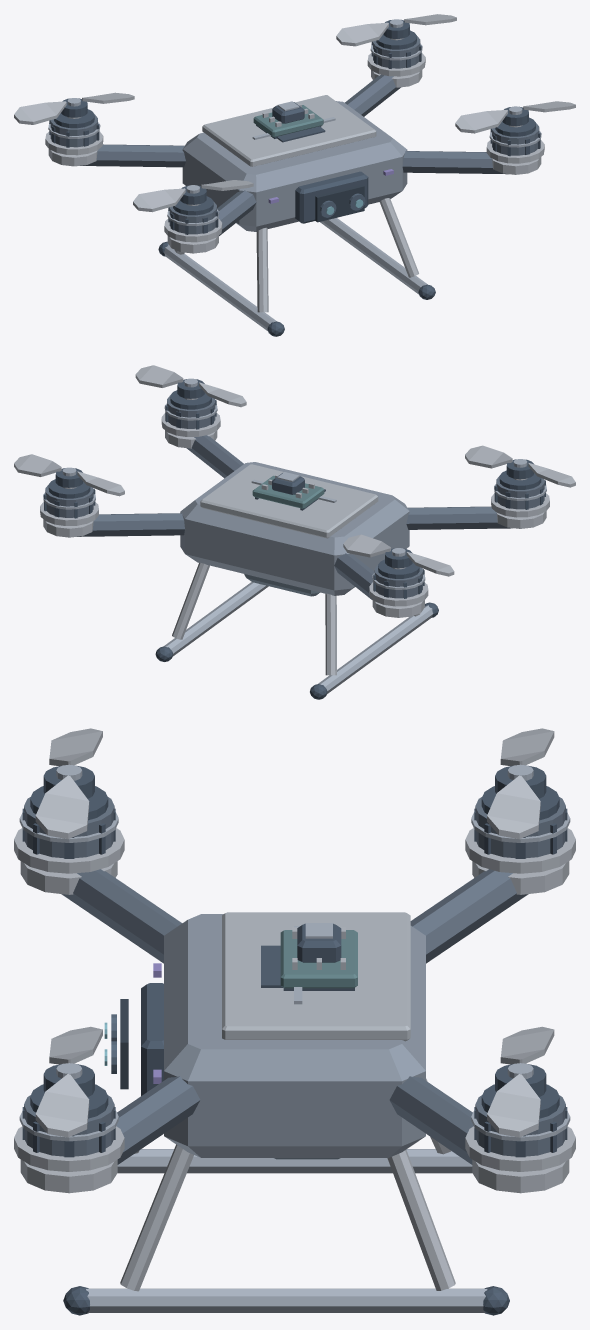
File: drone-default.glb
The picture shows the model from 3 angles, top to bottom: view 1: azimuth 30°, elevation 25°; view 2: azimuth 150°, elevation 25°; view 3: azimuth 270°, elevation 25°; orthographic projection. The views are drawn at different scales.
Visible parts, largest first — view 1: 00_frame-light_000, 00_frame-light_001, 00_frame-light_021, 00_frame-light_006, 00_frame-light_028, 00_frame-light_036, 00_frame-light_033, 00_frame-light_011, 00_frame-light_027, 00_frame-light_032, 00_frame-light_037, 00_frame-light_016 (+25 smaller); view 2: 00_frame-light_000, 00_frame-light_001, 00_frame-light_011, 00_frame-light_016, 00_frame-light_028, 00_frame-light_033, 00_frame-light_021, 00_frame-light_006, 00_frame-light_026, 02_chip-base_000, 00_frame-light_031, 10_prop-base_000 (+24 smaller); view 3: 00_frame-light_000, 00_frame-light_001, 00_frame-light_033, 00_frame-light_028, 00_frame-light_016, 00_frame-light_006, 00_frame-light_011, 00_frame-light_021, 00_frame-light_032, 00_frame-light_031, 02_chip-base_000, 08_prop-base_000 (+31 smaller).
Boxes of the visible parts, left/top/right/bottom form: 00_frame-light_000: left=182, top=101, right=407, bottom=231; 00_frame-light_001: left=202, top=95, right=376, bottom=166; 00_frame-light_021: left=402, top=151, right=508, bottom=174; 00_frame-light_006: left=80, top=144, right=185, bottom=167; 00_frame-light_028: left=164, top=244, right=276, bottom=330; 00_frame-light_036: left=295, top=171, right=368, bottom=223; 00_frame-light_033: left=320, top=218, right=427, bottom=294; 00_frame-light_011: left=345, top=74, right=400, bottom=116; 00_frame-light_027: left=256, top=227, right=268, bottom=312; 00_frame-light_032: left=379, top=198, right=418, bottom=277; 00_frame-light_037: left=315, top=185, right=364, bottom=222; 00_frame-light_016: left=217, top=190, right=256, bottom=235; 00_frame-light_000: left=180, top=462, right=409, bottom=595; 00_frame-light_001: left=200, top=464, right=378, bottom=538; 00_frame-light_011: left=77, top=513, right=184, bottom=536; 00_frame-light_016: left=406, top=506, right=512, bottom=529; 00_frame-light_028: left=318, top=605, right=433, bottom=693; 00_frame-light_033: left=163, top=582, right=268, bottom=656; 00_frame-light_021: left=186, top=435, right=243, bottom=478; 00_frame-light_006: left=334, top=553, right=374, bottom=599; 00_frame-light_026: left=325, top=593, right=336, bottom=675; 02_chip-base_000: left=252, top=475, right=324, bottom=508; 00_frame-light_031: left=172, top=563, right=209, bottom=639; 10_prop-base_000: left=135, top=365, right=183, bottom=387; 00_frame-light_000: left=164, top=914, right=425, bottom=1157; 00_frame-light_001: left=222, top=912, right=410, bottom=1041; 00_frame-light_033: left=86, top=1288, right=487, bottom=1312; 00_frame-light_028: left=117, top=1149, right=472, bottom=1173; 00_frame-light_016: left=61, top=869, right=182, bottom=963; 00_frame-light_006: left=410, top=869, right=528, bottom=963; 00_frame-light_011: left=389, top=1076, right=473, bottom=1164; 00_frame-light_021: left=116, top=1076, right=200, bottom=1164; 00_frame-light_032: left=120, top=1144, right=193, bottom=1291; 00_frame-light_031: left=387, top=1149, right=455, bottom=1290; 02_chip-base_000: left=280, top=930, right=357, bottom=988; 08_prop-base_000: left=35, top=775, right=89, bottom=839.
Size of the model in its own units: 6.24 by 2.38 by 3.71.
